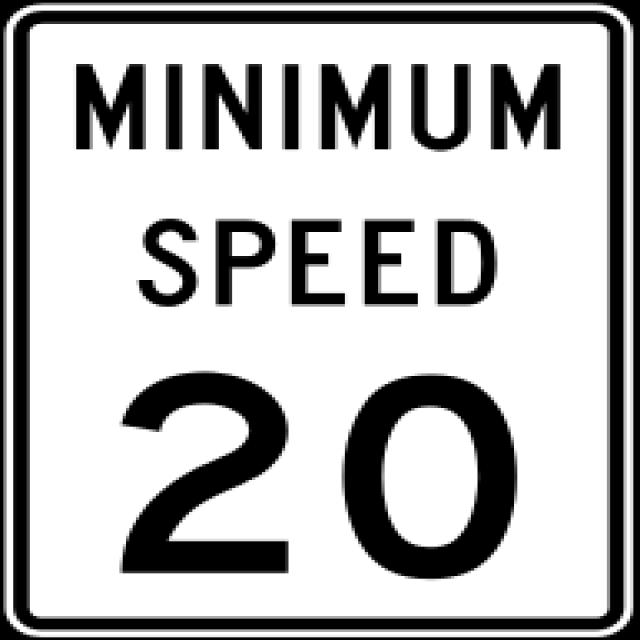Speed Limit -20-: (116, 361, 524, 582)
